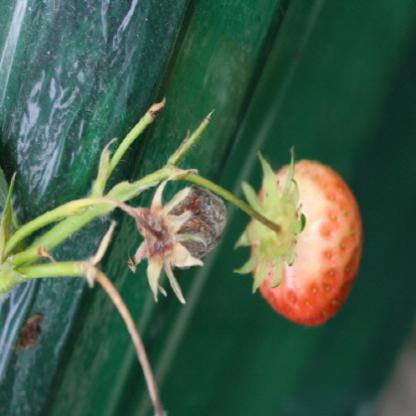Strawberry_Gray_Mold: (123, 168, 228, 306)
